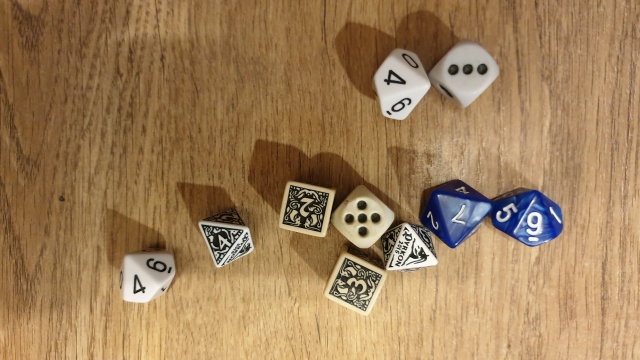d10-4: (367, 38, 433, 124), (109, 246, 189, 309)
d10-7: (417, 174, 492, 255)
d10-9: (487, 178, 575, 254)
d6-3: (424, 31, 502, 116)
d6-5: (324, 176, 397, 255)
d6p-2: (277, 171, 333, 247)
d6p-3: (319, 246, 387, 319)
d8p-1: (382, 220, 442, 275)
d8p-4: (194, 202, 265, 272)
